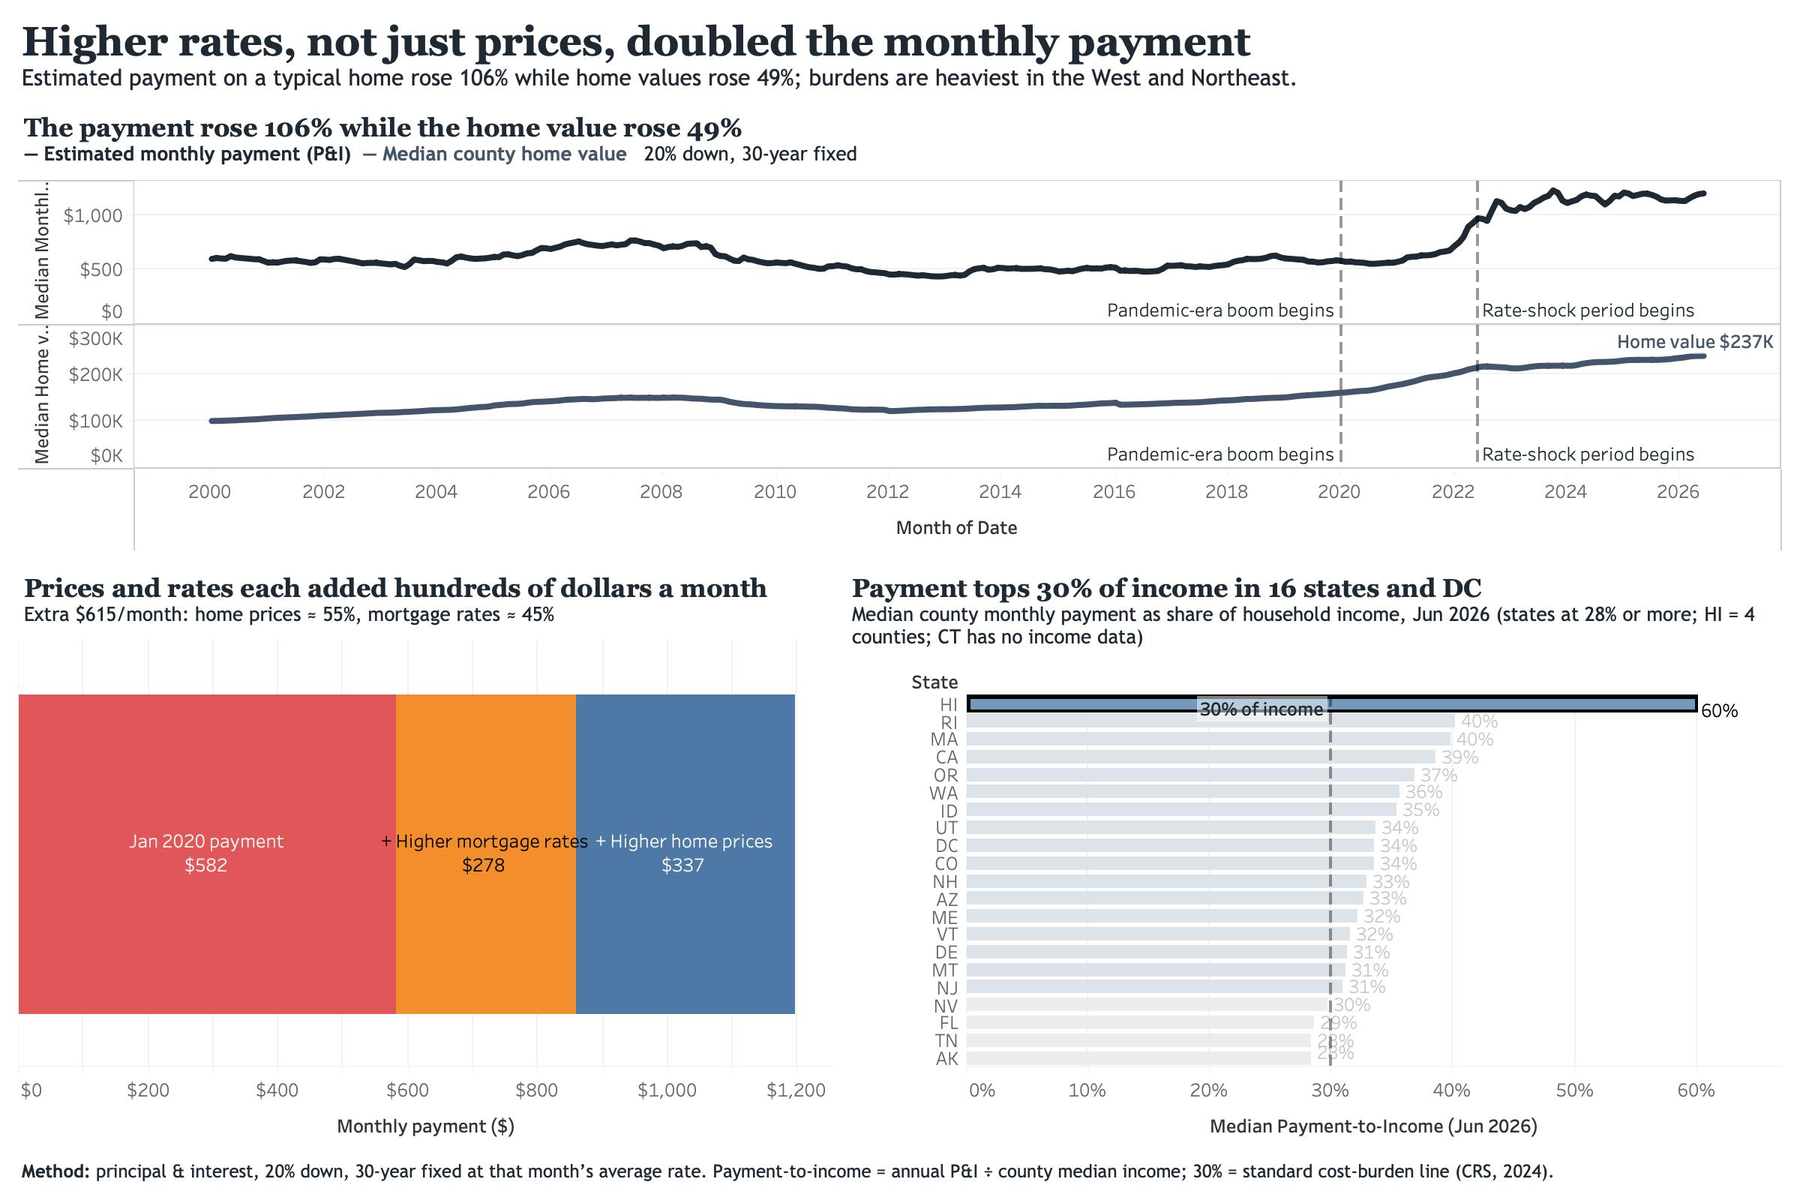

What the dashboard file says about the page in this screenshot:
{"tool":"tableau","page":{"name":"DB3 - Buyer Pressure","canvas":[1200,800],"ordinal":2},"visuals":[{"type":"title","box":[8,8,1184,57]},{"type":"worksheet","title":"12 Estimated Monthly Financing Cost","mark":"Line","rows":["Calculation_6313575938920482","allhomes_median_midtier"],"cols":["Calculation_6313575922466817"],"box":[8,65,1184,307.1]},{"type":"worksheet","title":"12b Payment Split","mark":"Bar","cols":["Calculation_9120000000000021"],"box":[8,372.1,552,397.9]},{"type":"worksheet","title":"09b State Payment-to-Income","mark":"Bar","rows":["state"],"cols":["Calculation_9120000000000009"],"box":[560,372.1,632,397.9]},{"type":"text","box":[8,770,1184,22]}]}

Visuals, with their boxes in screenshot pixels (x1, y1, x2, y2), scaled from the page's 1200x800 canvas onto the 1800x1200 screenshot:
title: (12,12,1788,98)
"12 Estimated Monthly Financing Cost" worksheet (Line marks): (12,98,1788,558)
"12b Payment Split" worksheet (Bar marks): (12,558,840,1155)
"09b State Payment-to-Income" worksheet (Bar marks): (840,558,1788,1155)
text: (12,1155,1788,1188)
